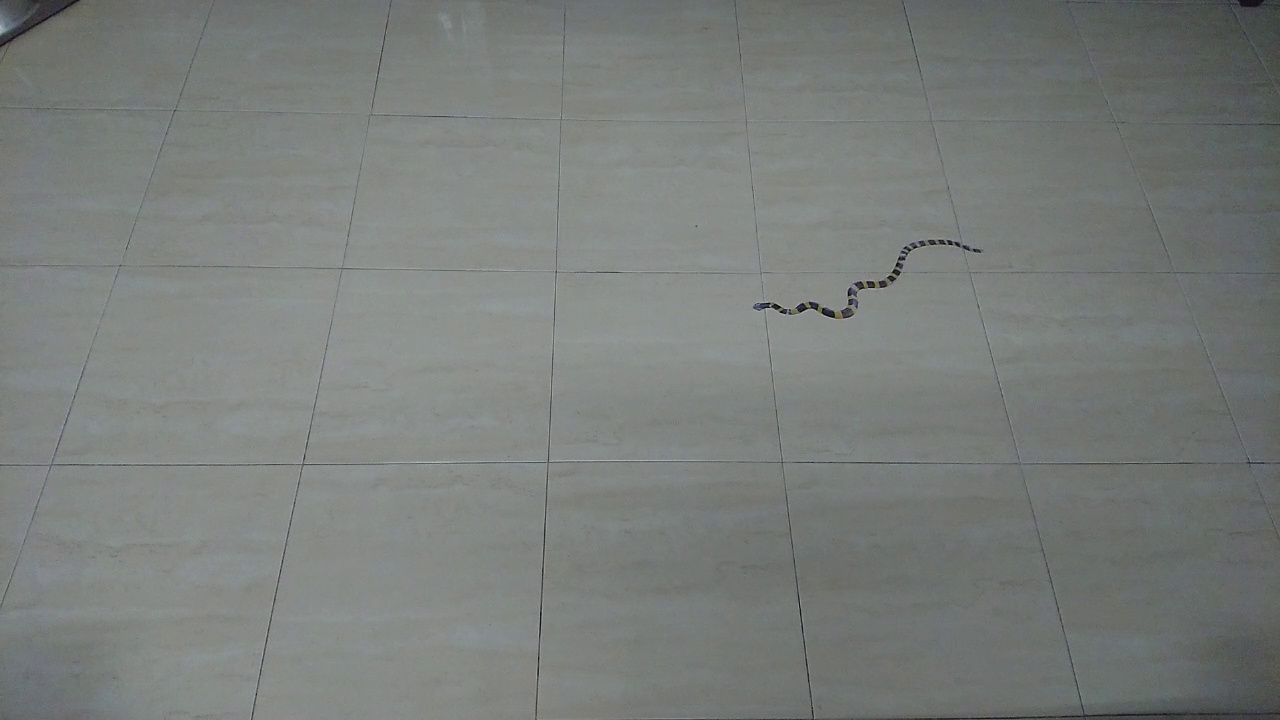snake: (738, 231, 990, 335)
